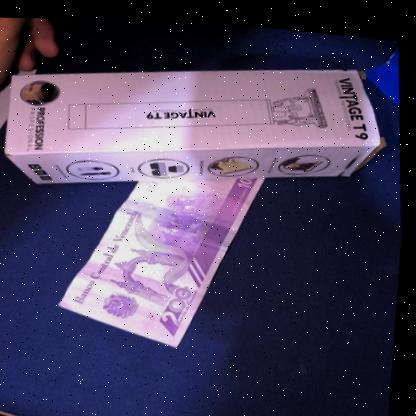one_hundred-back-vef: (48, 153, 283, 362)
